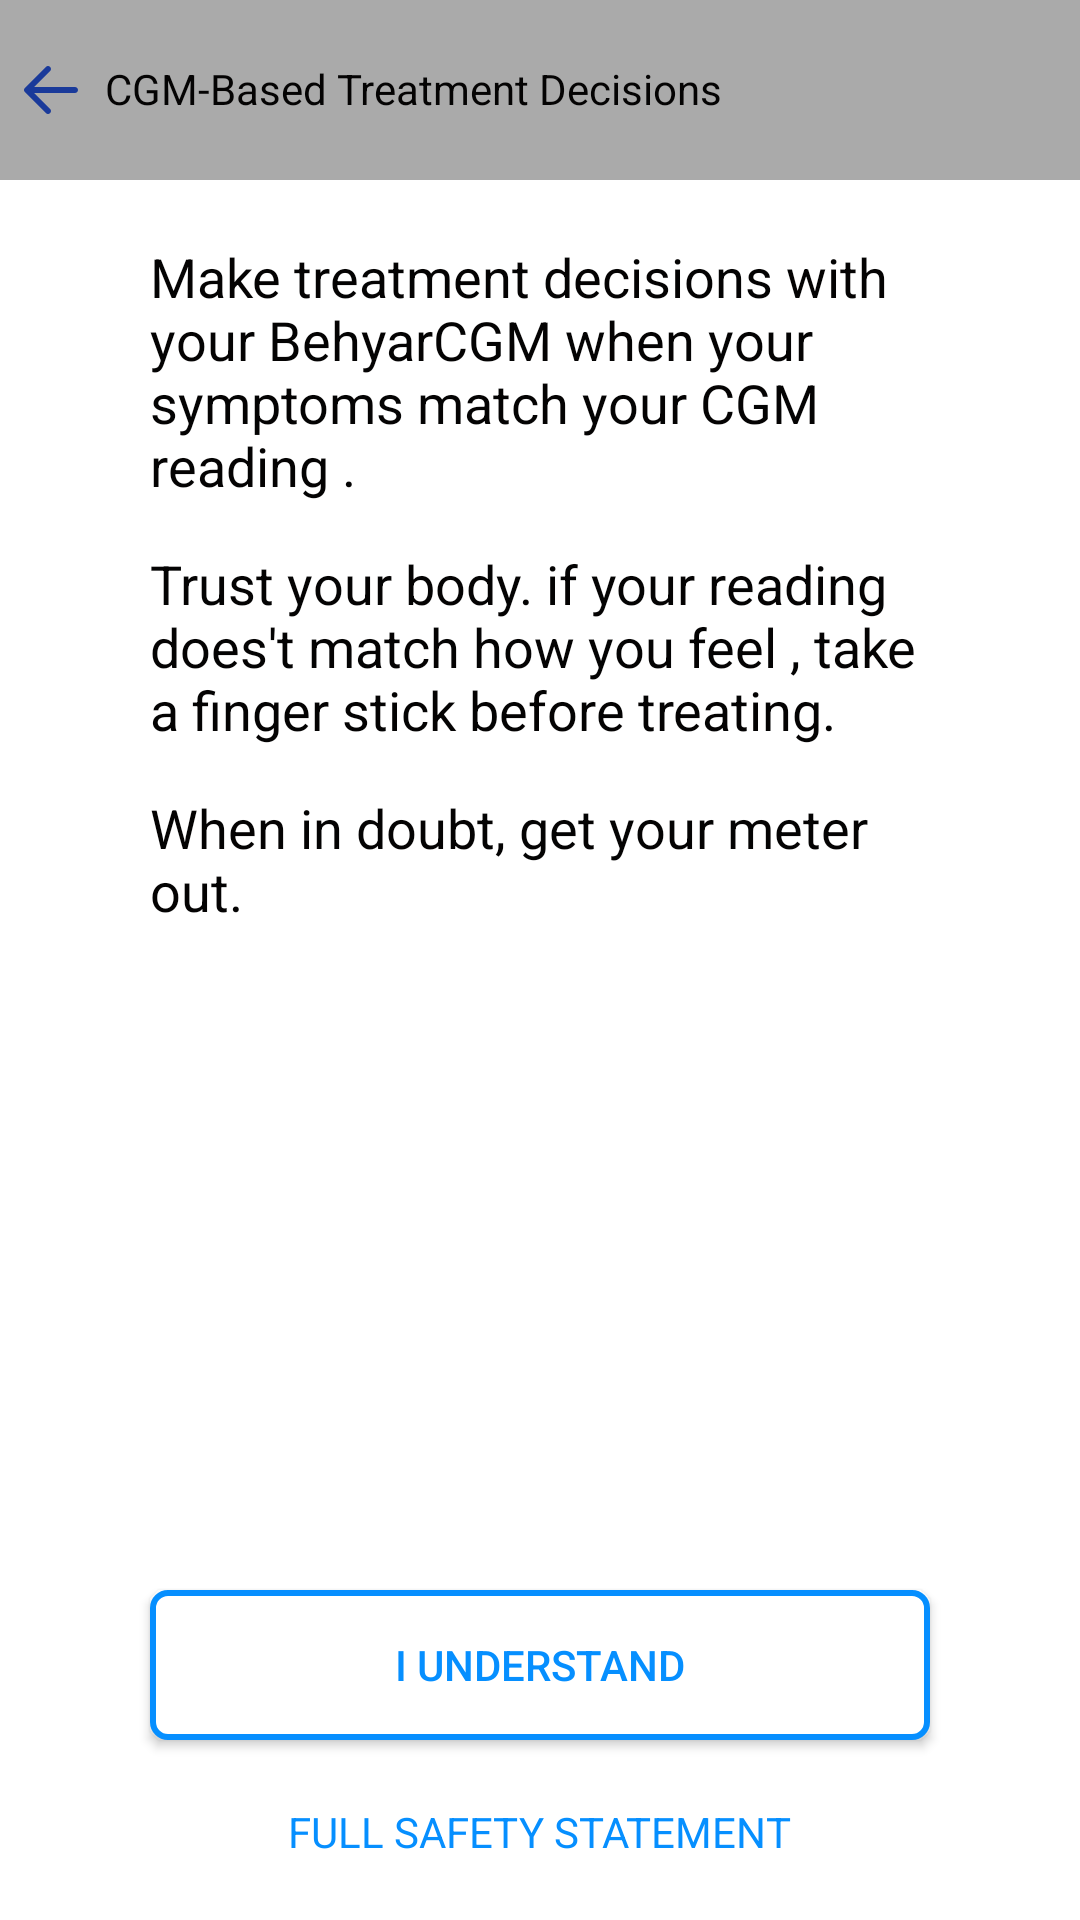

Named icons in this screenshot (1080×1920) and their bounding boxes, [x1, y1, x2, y2]:
left: [24, 66, 78, 114]
